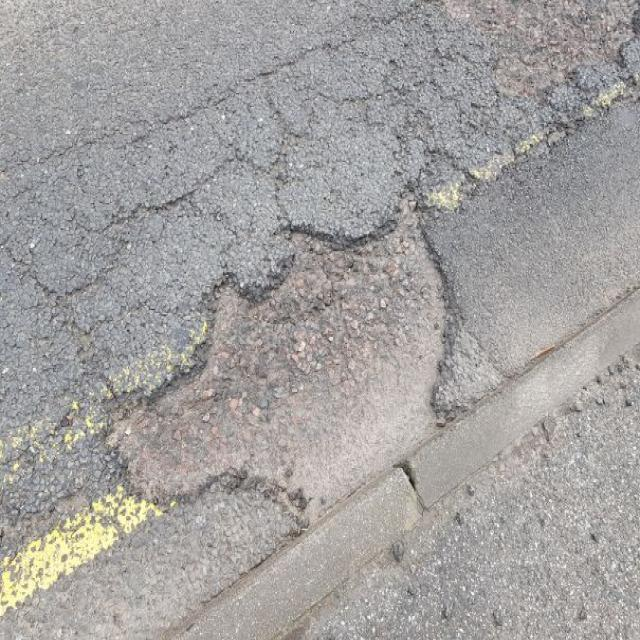pothole: (91, 167, 460, 538), (435, 0, 639, 155)
